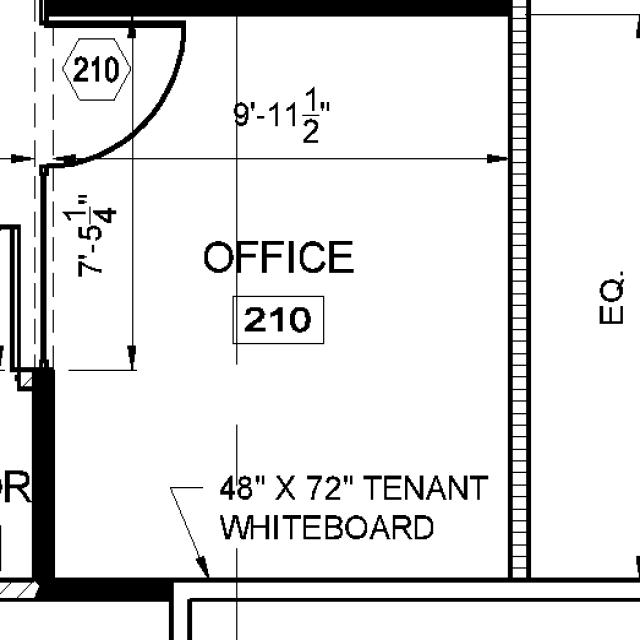Doors: (32, 17, 193, 173)
